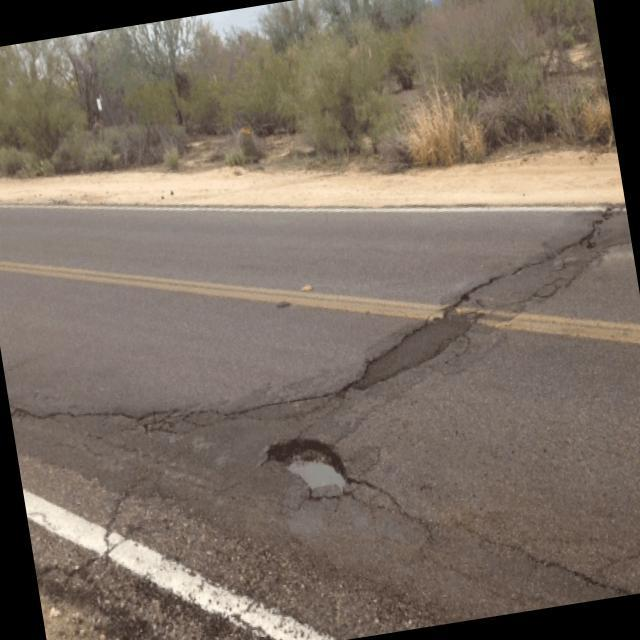Pothole: (293, 139, 640, 402), (242, 387, 356, 529)
